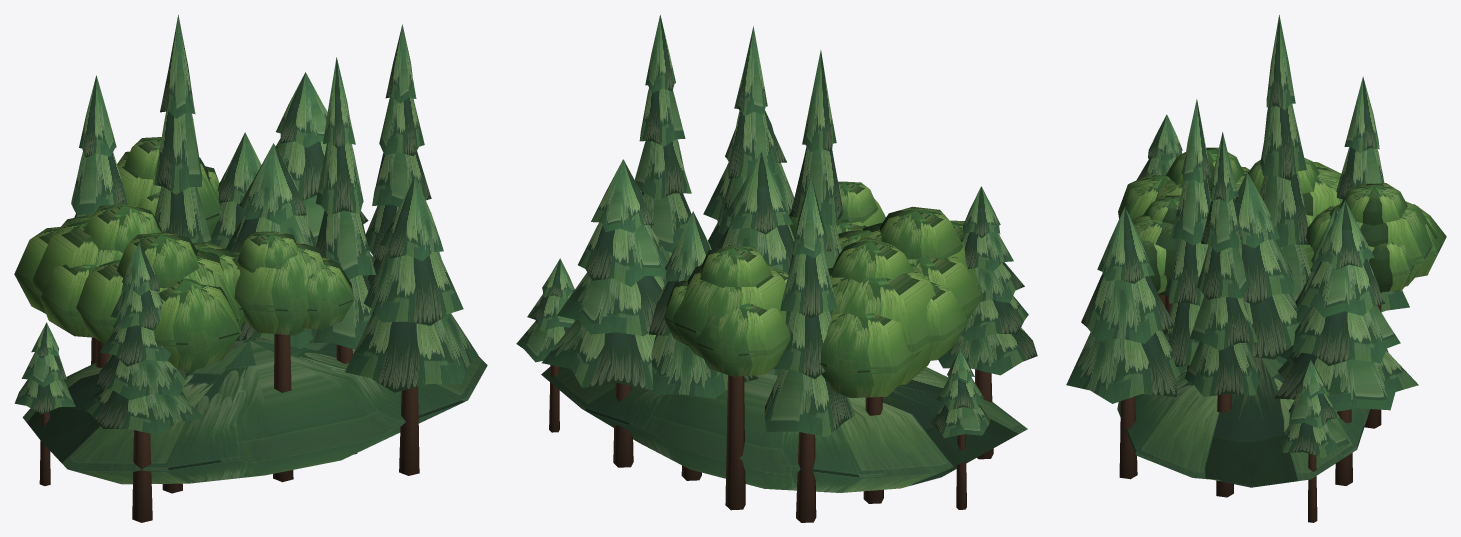
The model's file is forest-mass-b.glb.
3 views of the same model, side by side, from view 1: azimuth 30°, elevation 25°; view 2: azimuth 150°, elevation 25°; view 3: azimuth 270°, elevation 25° (orthographic). The views are drawn at different scales.
Parts seen in each view (by area): view 1: Needles, Trunk; view 2: Needles, Trunk; view 3: Needles, Trunk.
Part boxes in pixels (left/top/right/bottom): Needles: left=14, top=15, right=487, bottom=484; Trunk: left=39, top=334, right=419, bottom=522; Needles: left=516, top=15, right=1037, bottom=492; Trunk: left=549, top=365, right=993, bottom=522; Needles: left=1066, top=15, right=1446, bottom=487; Trunk: left=1119, top=292, right=1381, bottom=522.
Bounding box in the file's own units: 14.26 × 13.22 × 11.53.
2 materials, 1 textured.
